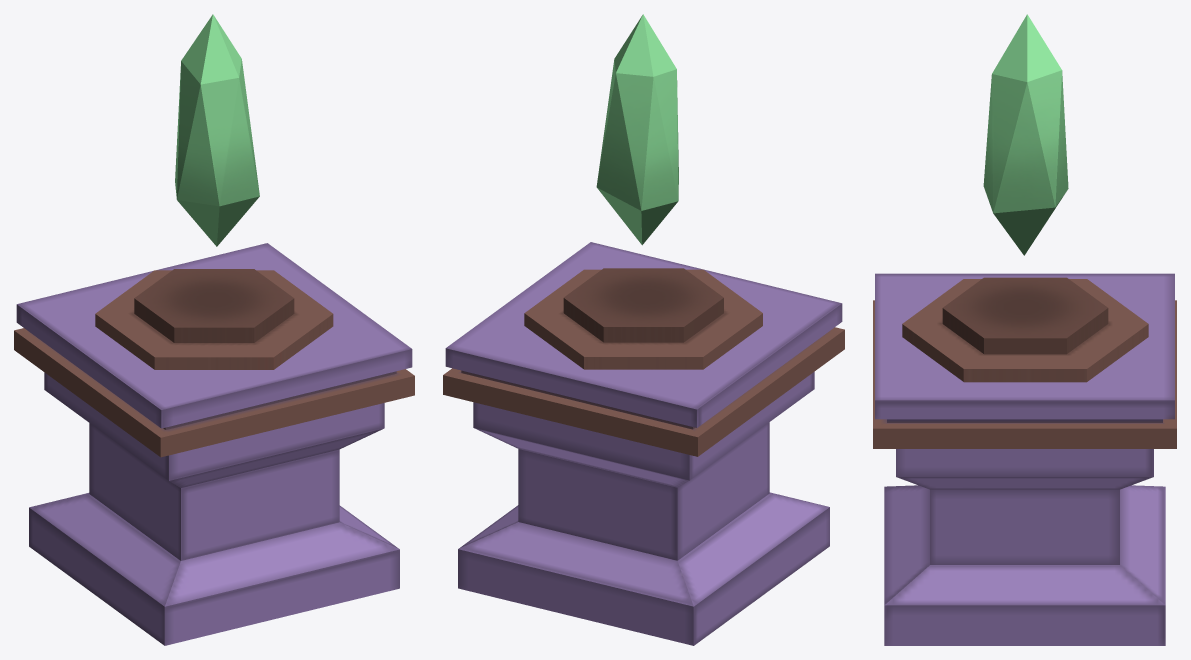
File: Tour arcane1.fbx
3 renders of one model, left to right at view 1: azimuth 30°, elevation 25°; view 2: azimuth 150°, elevation 25°; view 3: azimuth 270°, elevation 25°, orthographic. The views are drawn at different scales.
Parts seen in each view (by area): view 1: Tour 1; view 2: Tour 1; view 3: Tour 1.
Boxes of the visible parts, bbox=[...] form: Tour 1: bbox=[14, 14, 414, 645]; Tour 1: bbox=[443, 14, 844, 645]; Tour 1: bbox=[873, 14, 1176, 645].
Bounding box in the file's own units: 1.72 × 3.58 × 1.72.
